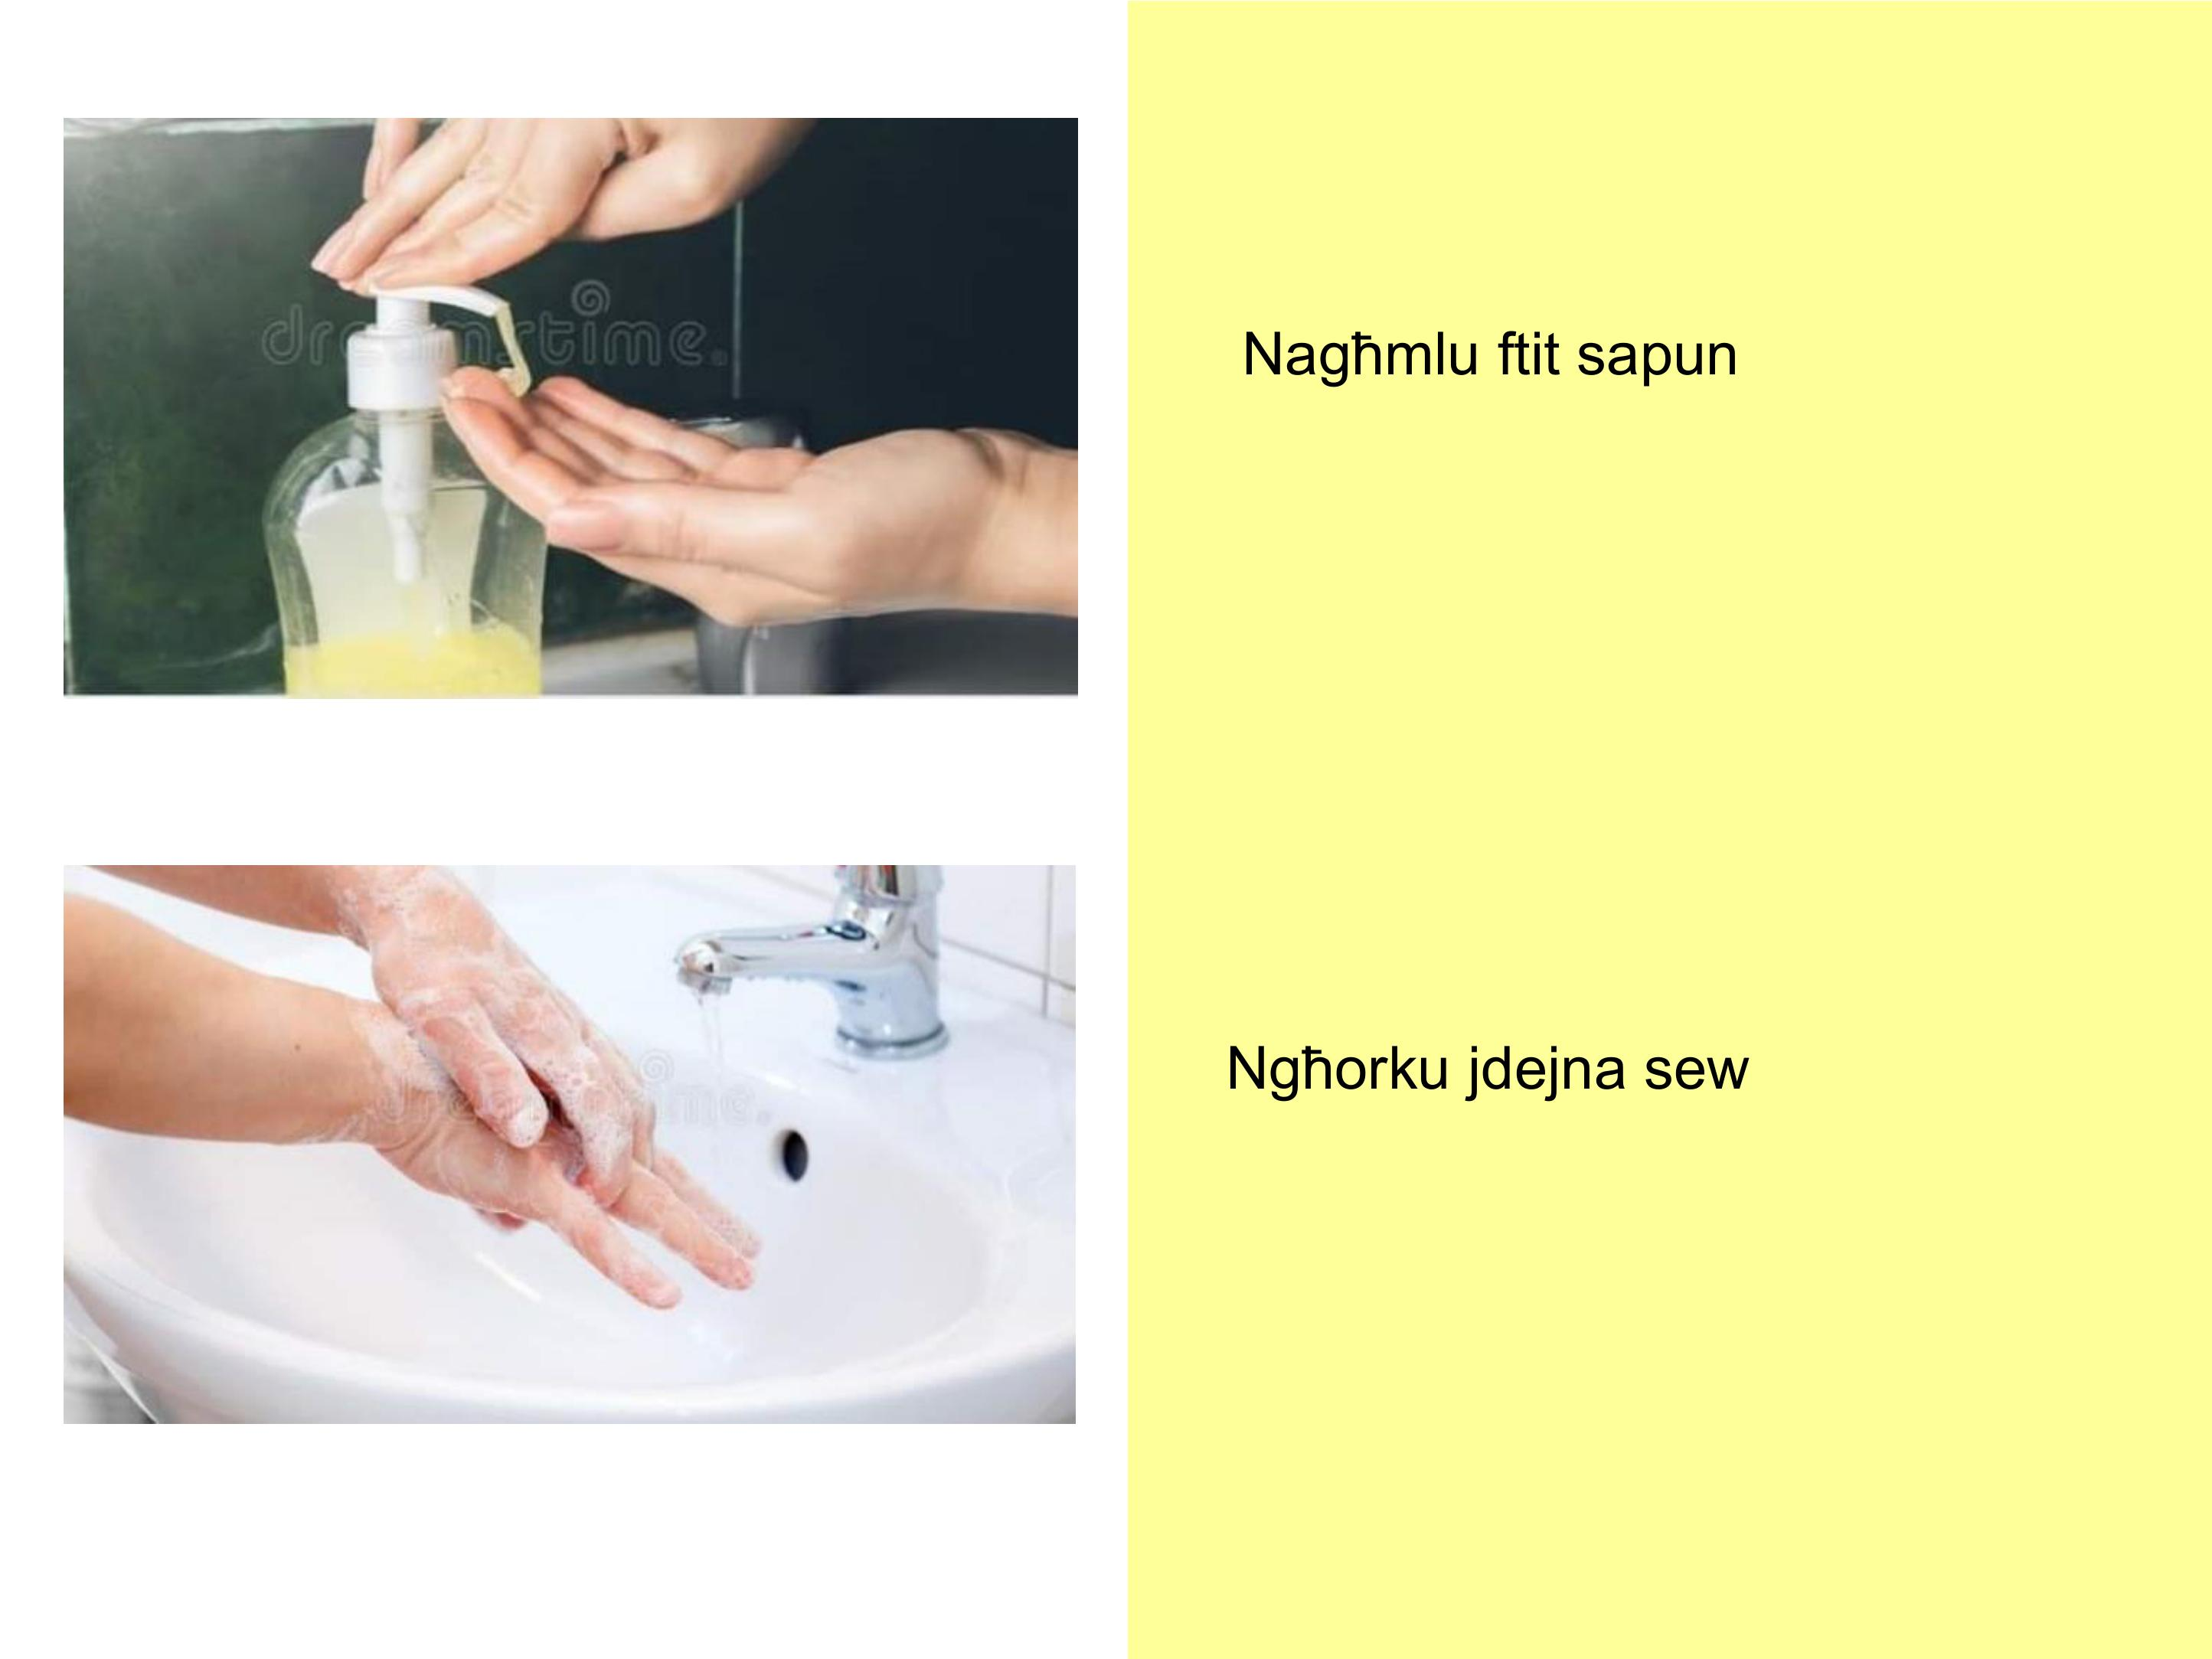text: (1206, 293, 1776, 1143)
